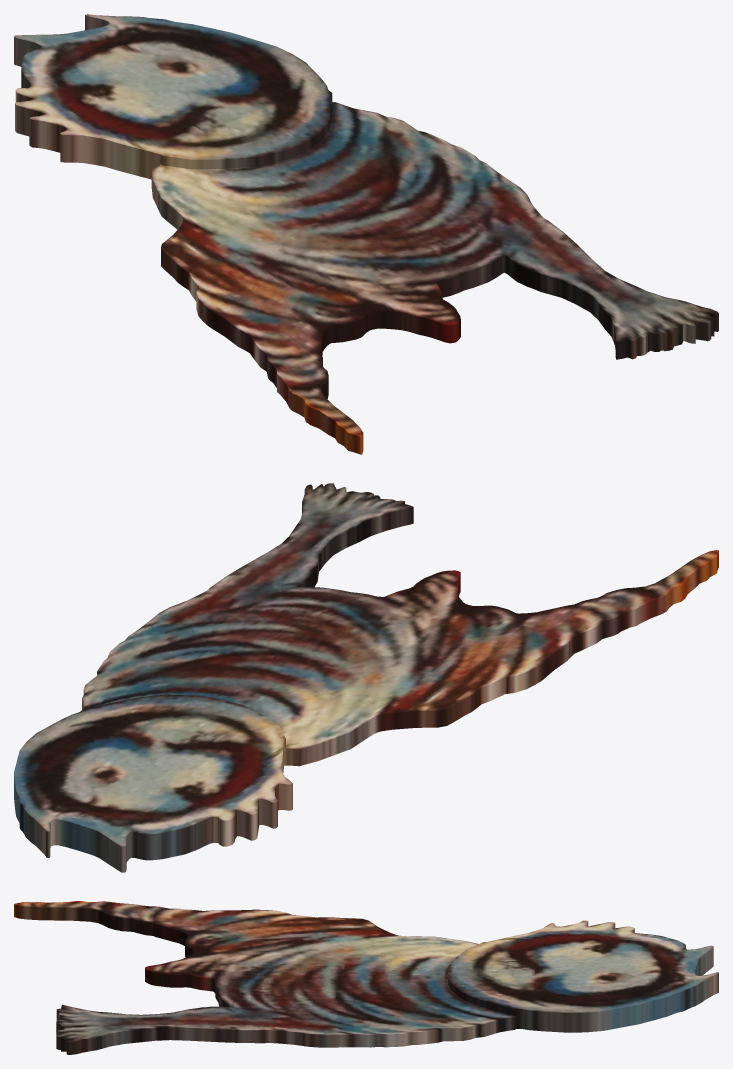
File: mural mediciana der 2.dae
The picture shows the model from 3 angles, top to bottom: view 1: azimuth 30°, elevation 25°; view 2: azimuth 150°, elevation 25°; view 3: azimuth 270°, elevation 25°; orthographic projection. The views are drawn at different scales.
Parts seen in each view (by area): view 1: SketchUp (×2); view 2: SketchUp (×2); view 3: SketchUp (×2).
Boxes of the visible parts, x1,y1,x2,y2 form: SketchUp (×2): [14, 14, 718, 454]; SketchUp (×2): [14, 483, 718, 872]; SketchUp (×2): [14, 901, 718, 1054].
Size of the model in its own units: 19.2 by 40.52 by 1.25.
Materials: 1 (1 with a texture image).
